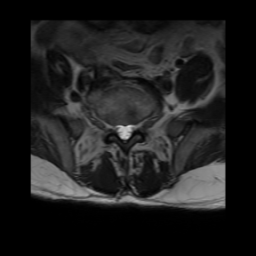CCS_normal: (121, 118, 127, 147)
LFS_normal: (133, 116, 141, 136)
LLS_normal: (127, 117, 133, 142)
RFS_normal: (108, 116, 114, 138)
RLS_normal: (114, 119, 121, 142)
